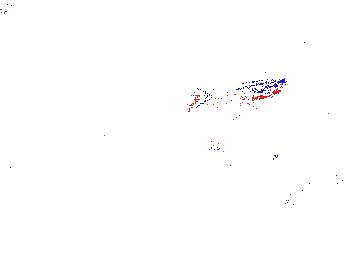glassfish: (283, 170, 346, 212)
redtail glassfish: (180, 76, 289, 114), (201, 132, 279, 165)
